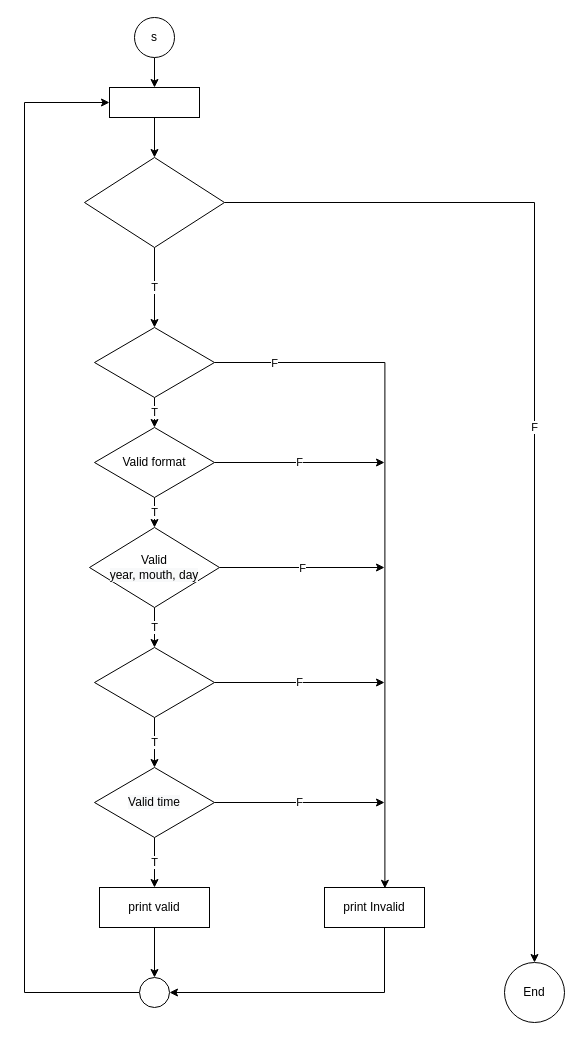
This 582x1040 diagram has some shape labels left out. The shapes that lost their labels are listed below. From the top down, each one's centre as x and y in pixels, then its label:
point (154, 102): get date_time
point (154, 202): date_time != ""
point (154, 362): Valid all digits
point (154, 682): Valid day (related to mouth)
